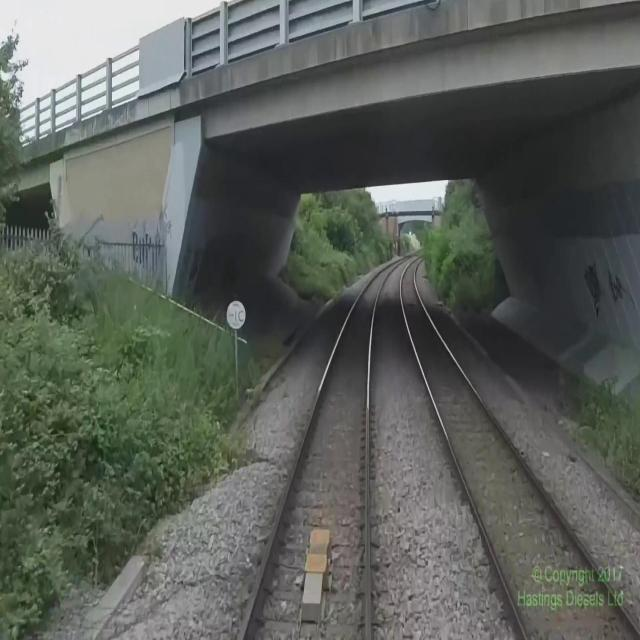rail-track: (402, 255, 640, 639), (242, 261, 399, 639)
